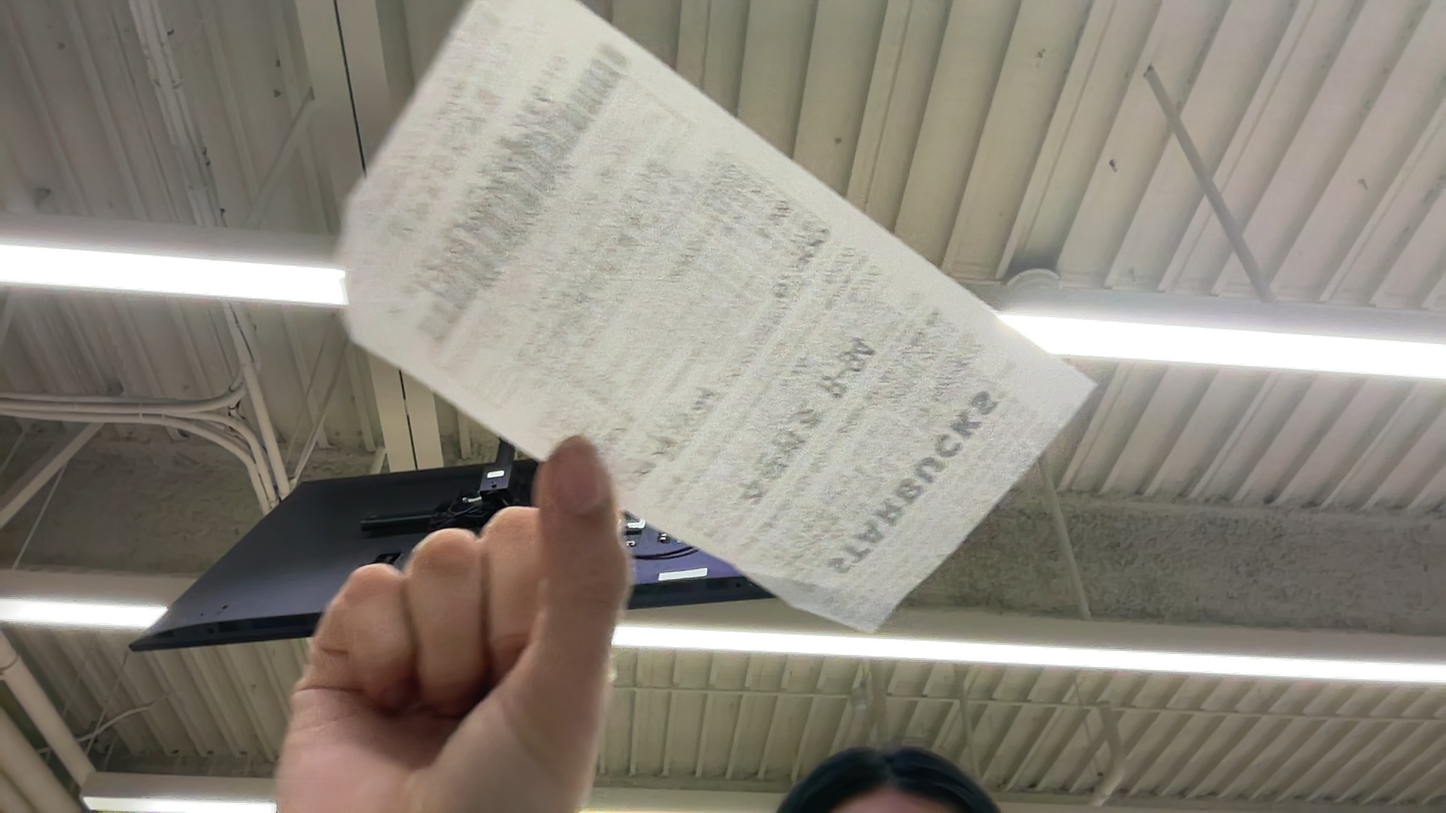Paper: (3, 402, 278, 614)
